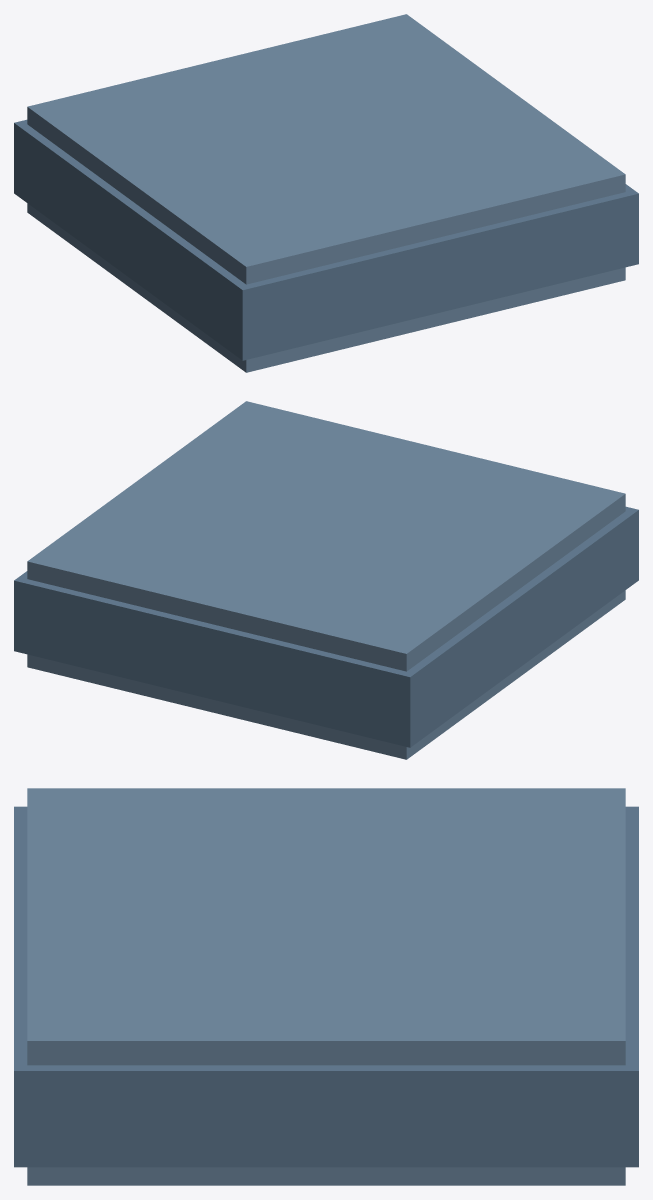
File: pillowBlue.glb
3 renders of one model, top to bottom at view 1: azimuth 30°, elevation 25°; view 2: azimuth 150°, elevation 25°; view 3: azimuth 270°, elevation 25°, orthographic. The views are drawn at different scales.
Size of the model in its own units: 0.47 by 0.12 by 0.47.
